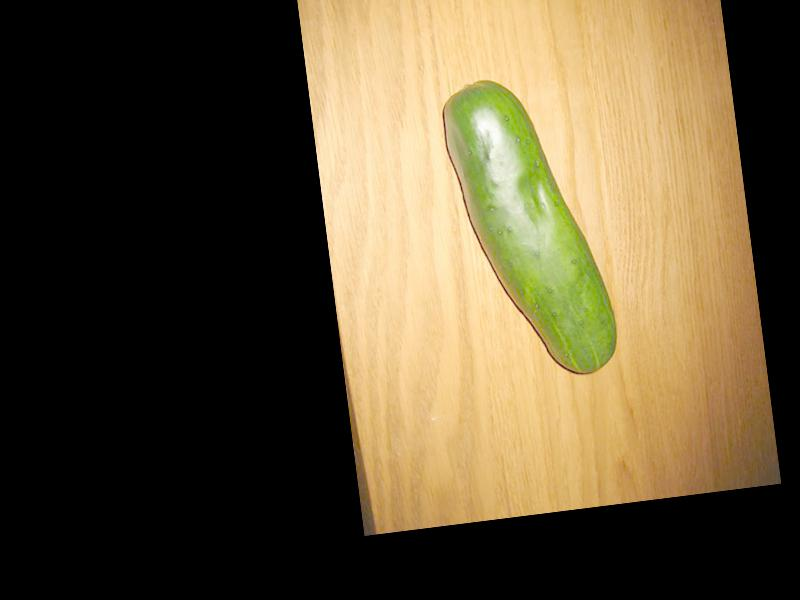Cucumber: (439, 72, 620, 389)
